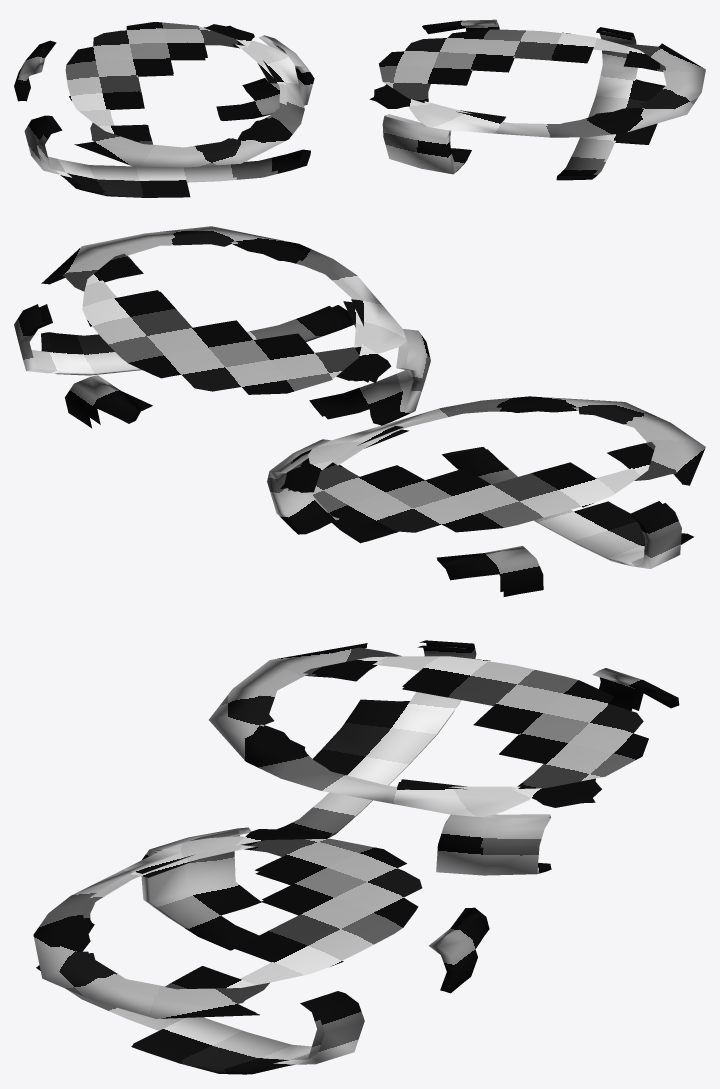
The model's file is Pads_WorldItem.fbx.
3 views of the same model, one above another, from view 1: azimuth 30°, elevation 25°; view 2: azimuth 150°, elevation 25°; view 3: azimuth 270°, elevation 25° (orthographic). The views are drawn at different scales.
Visible parts, largest first — view 1: Circle_Circle.001; view 2: Circle_Circle.001; view 3: Circle_Circle.001.
Boxes of the visible parts, bbox=[...] form: Circle_Circle.001: bbox=[14, 19, 705, 197]; Circle_Circle.001: bbox=[14, 226, 705, 596]; Circle_Circle.001: bbox=[33, 640, 679, 1074].
Size of the model in its own units: 0.5853 by 0.0642 by 0.4448.
